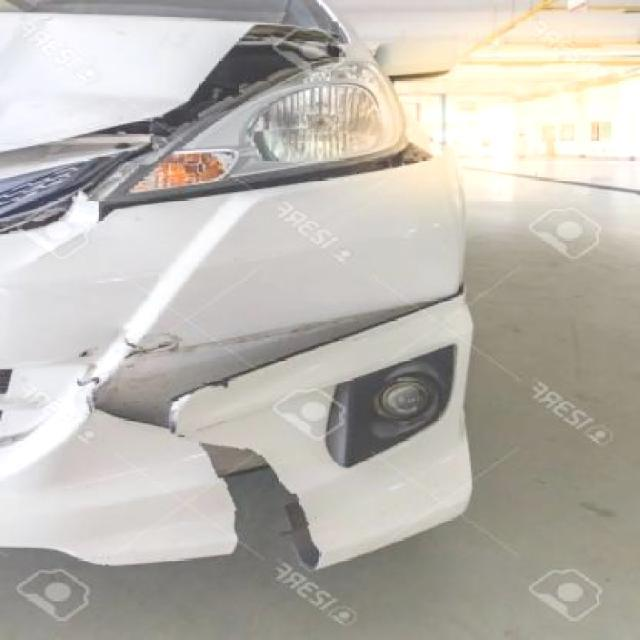minor: (0, 14, 474, 582)
